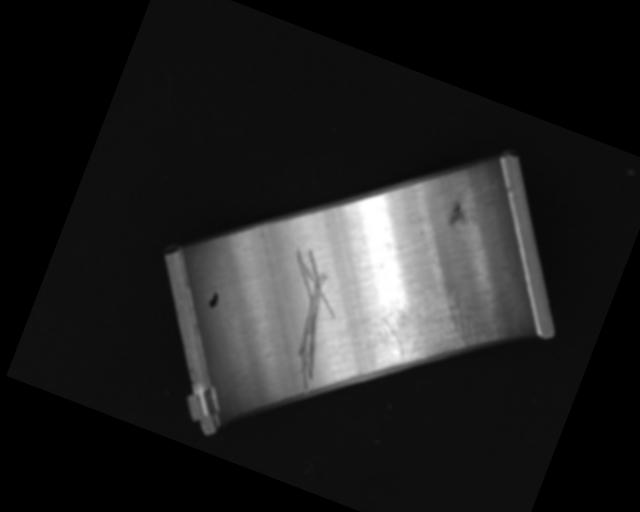blot: (205, 289, 221, 311)
bruise: (444, 200, 470, 231)
nick: (247, 244, 356, 399)
scratch: (362, 266, 507, 391)
